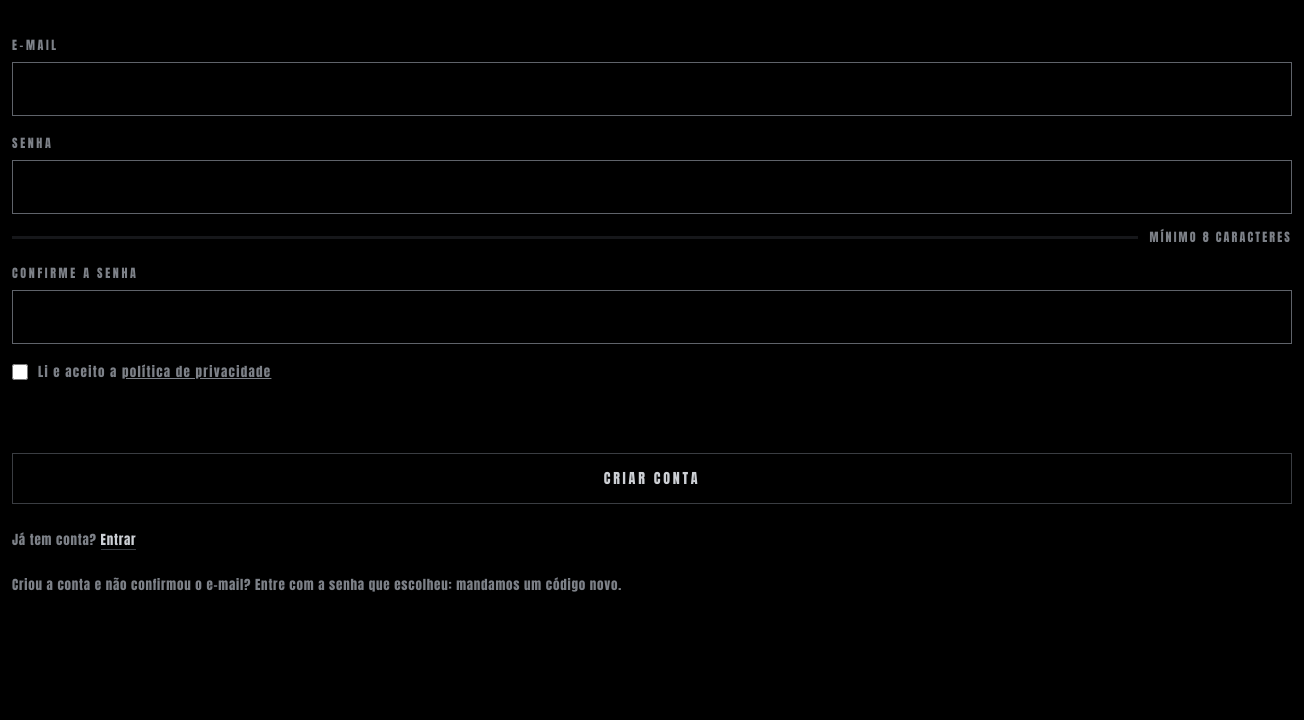
it: tela do codigo (#224) › depois do envio aparece a tela do codigo; trocar e-mail volta com os campos
Type "maria@exemplo.com" into the field labelled "E-mail".
click(652, 89); type("maria@exemplo.com")  # box top-left (12, 62), bottom-right (1292, 116)
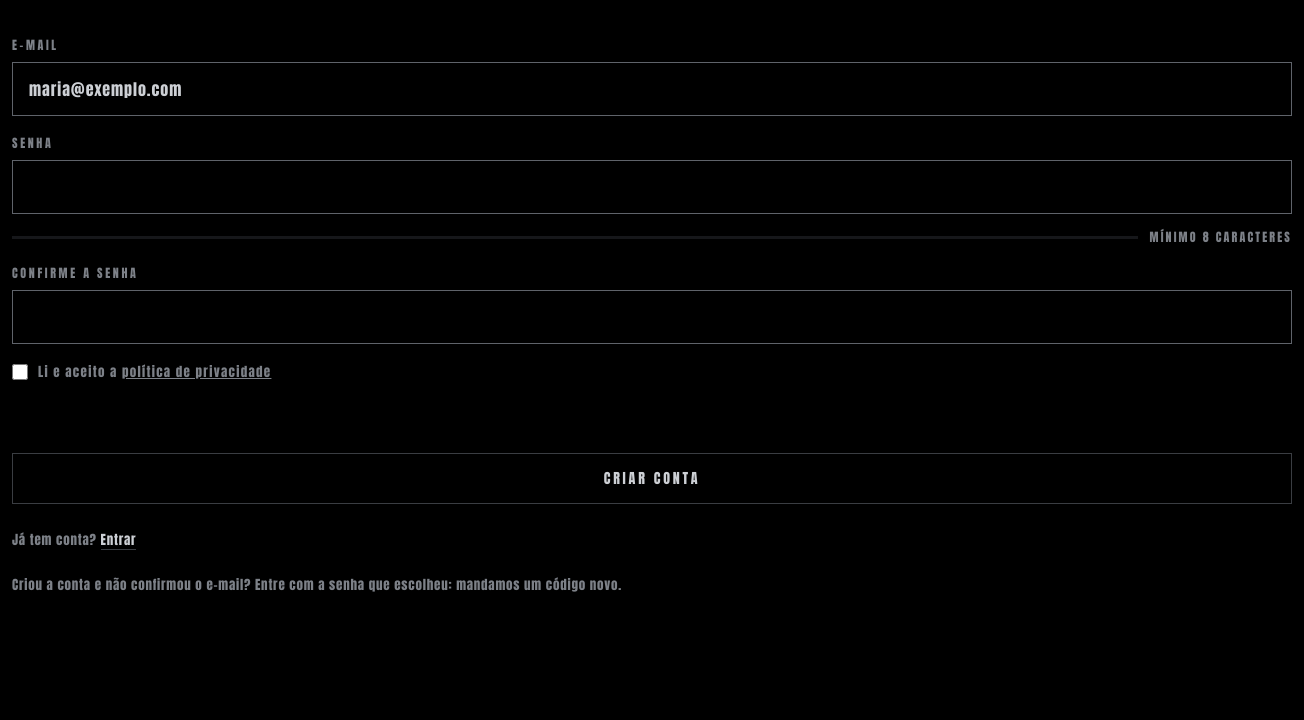
Type "senha-longa-de-teste" into the password field labelled "Senha".
click(652, 187); type("senha-longa-de-teste")  # box top-left (12, 160), bottom-right (1292, 214)
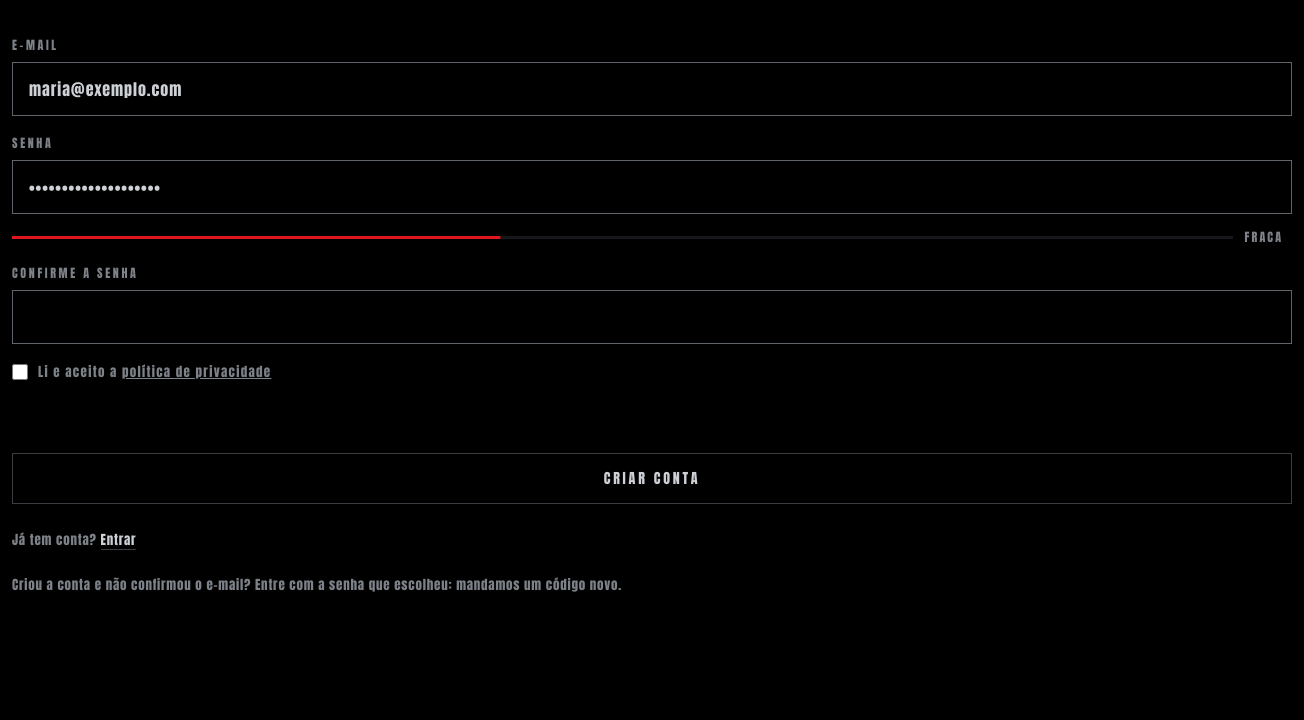
Type "senha-longa-de-teste" into the password field labelled "Confirme a senha".
click(652, 317); type("senha-longa-de-teste")  # box top-left (12, 290), bottom-right (1292, 344)
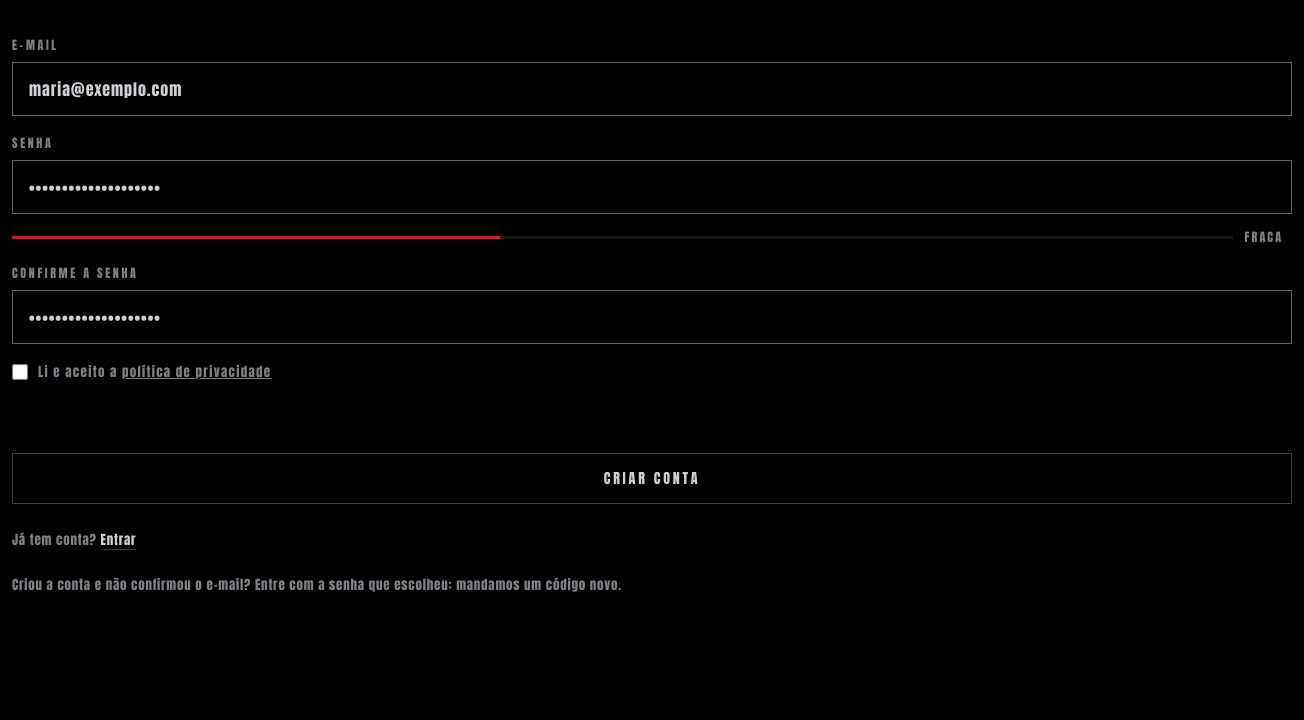
Click the checkbox labelled "Li e aceito a política de privacidade".
click(20, 372)  # box top-left (12, 364), bottom-right (28, 380)
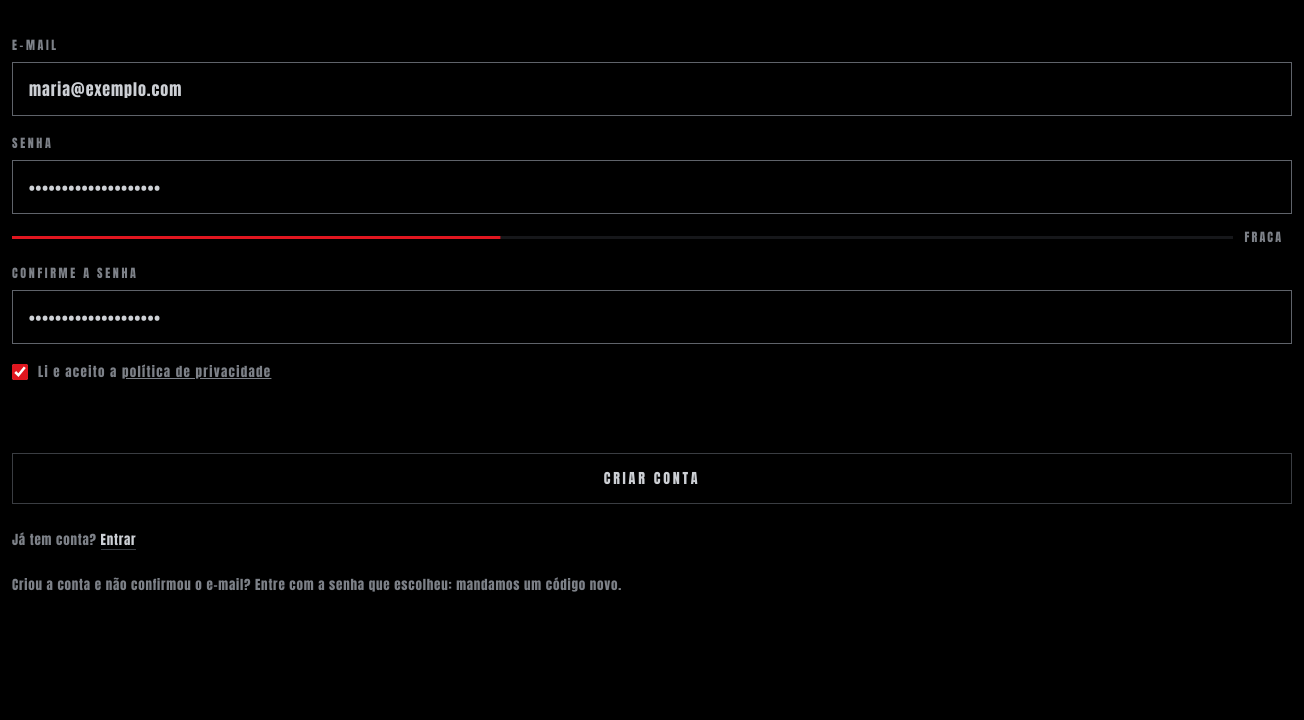
Submit the form
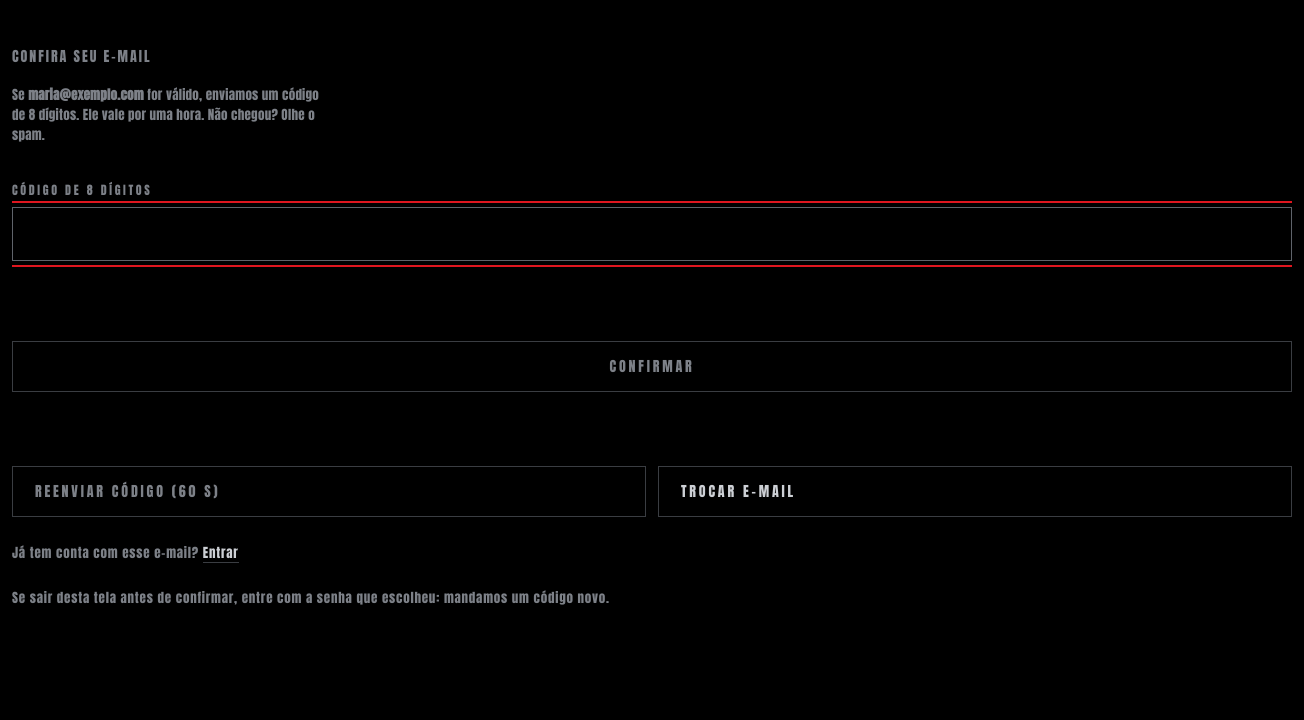
Check: the field labelled "Código de 8 dígitos" is shown, box top-left (12, 207), bottom-right (1292, 261)
Check: the text "maria@exemplo.com" is shown, box top-left (28, 85), bottom-right (144, 104)
Click the button "Trocar e-mail".
click(738, 491)  # box top-left (658, 466), bottom-right (1292, 517)
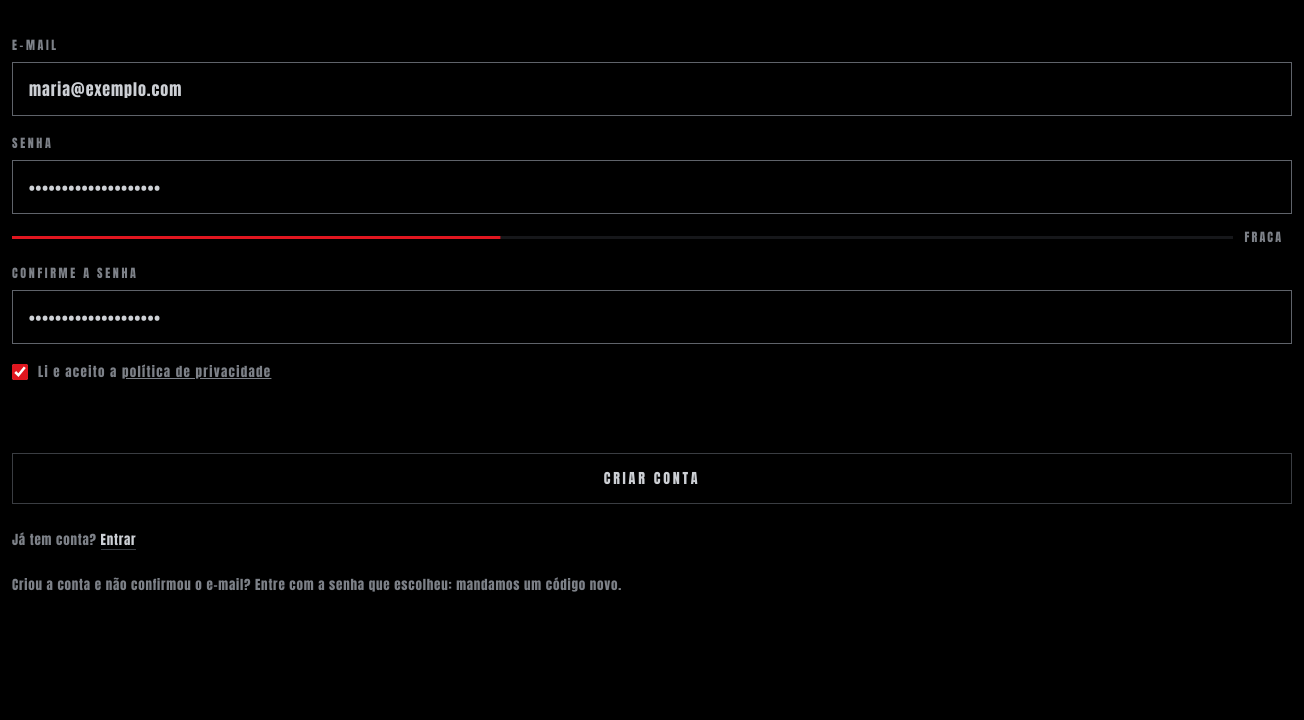
Check: the field labelled "E-mail" holds "maria@exemplo.com", box top-left (12, 62), bottom-right (1292, 116)
Check: the checkbox labelled "Li e aceito a política de privacidade" is checked, box top-left (12, 364), bottom-right (28, 380)
